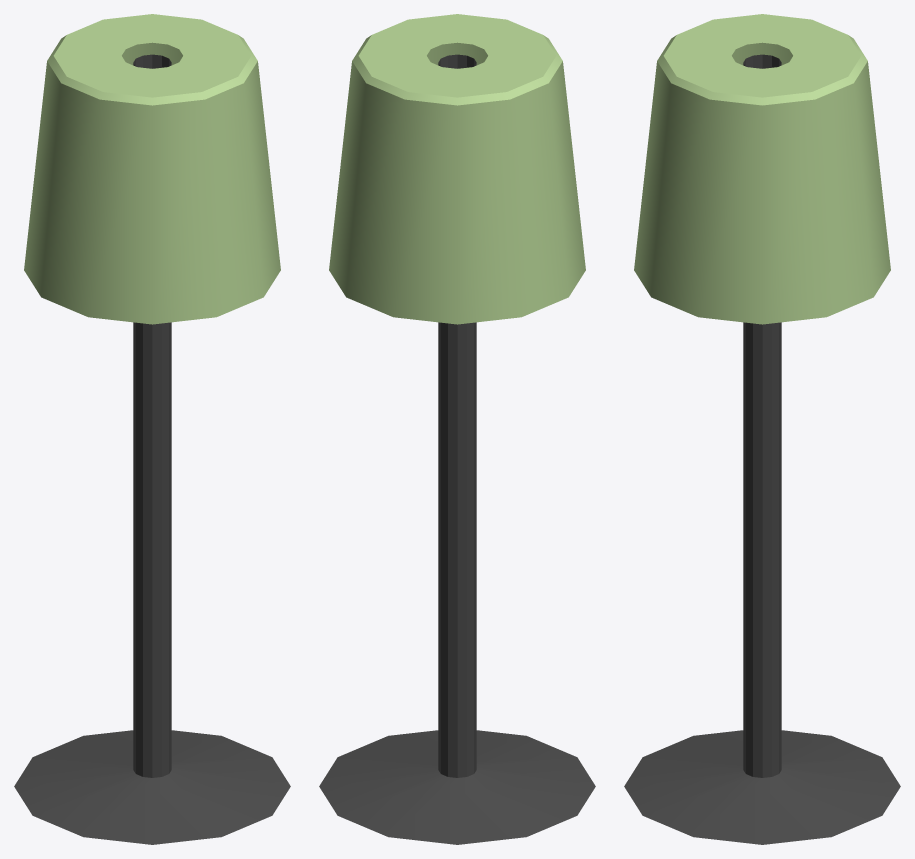
The model's file is lamp_01.fbx.
3 renders of one model, left to right at view 1: azimuth 30°, elevation 25°; view 2: azimuth 150°, elevation 25°; view 3: azimuth 270°, elevation 25°, orthographic.
Parts seen in each view (by area): view 1: pCylinder102, pCylinder101; view 2: pCylinder102, pCylinder101; view 3: pCylinder102, pCylinder101.
Part boxes in pixels (left/top/right/bottom): pCylinder102: left=24, top=14, right=280, bottom=324; pCylinder101: left=14, top=54, right=290, bottom=844; pCylinder102: left=329, top=14, right=585, bottom=324; pCylinder101: left=319, top=54, right=595, bottom=844; pCylinder102: left=634, top=14, right=890, bottom=324; pCylinder101: left=624, top=54, right=900, bottom=844.
Size of the model in its own units: 3.38 by 9.85 by 3.38.
